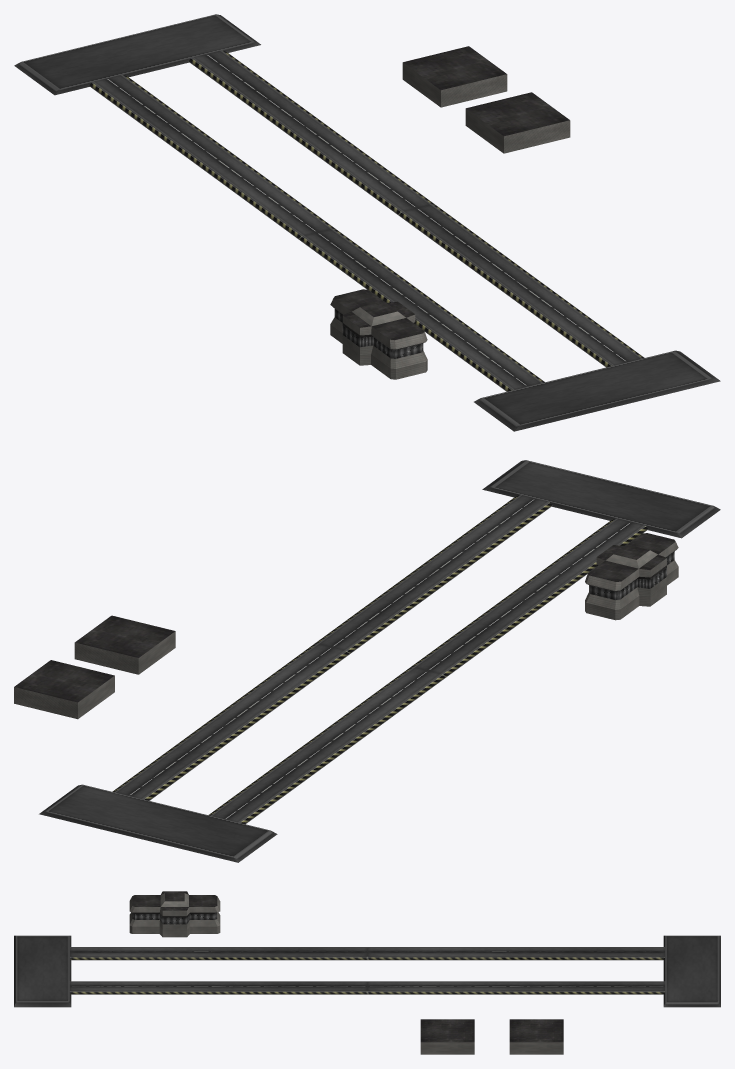
3 views of the same model, one above another, from view 1: azimuth 30°, elevation 25°; view 2: azimuth 150°, elevation 25°; view 3: azimuth 270°, elevation 25° (orthographic). The views are drawn at different scales.
Parts seen in each view (by area): view 1: Base2; view 2: Base2; view 3: Base2.
Part boxes in pixels (box(x1,y1,x2,y2)): Base2: box(14, 14, 720, 431); Base2: box(14, 460, 720, 862); Base2: box(14, 891, 720, 1054).
Bounding box in the file's own units: 759 × 82.34 × 1672.
